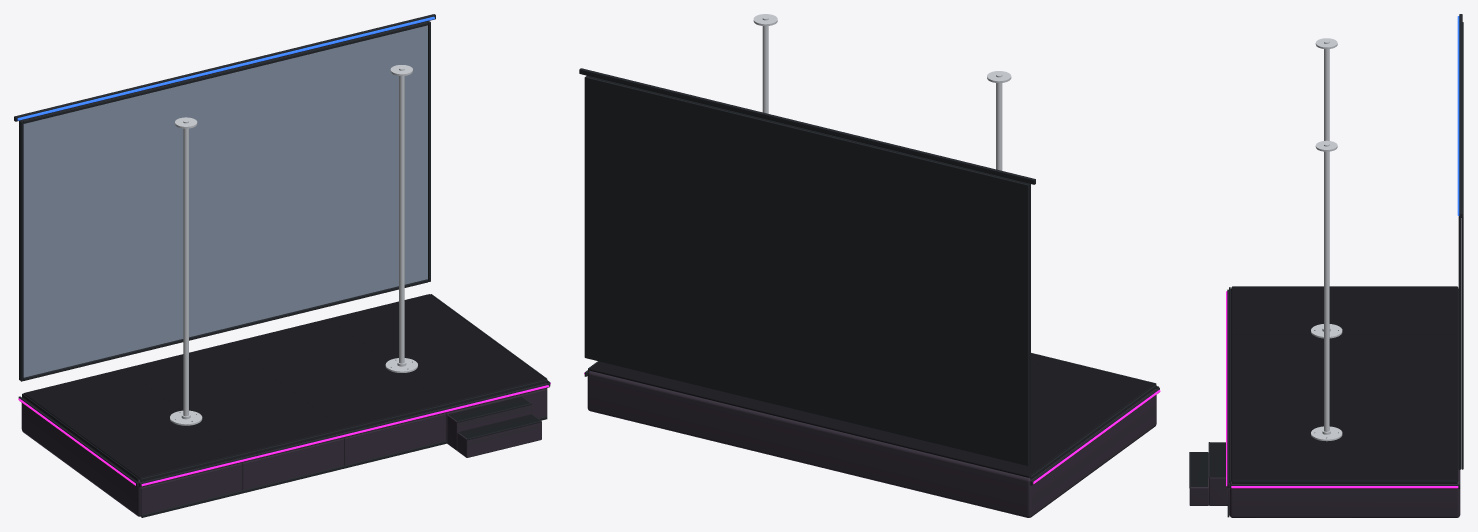
The model's file is palco_realista.glb.
3 views of the same model, side by side, from view 1: azimuth 30°, elevation 25°; view 2: azimuth 150°, elevation 25°; view 3: azimuth 270°, elevation 25° (orthographic). The views are drawn at different scales.
Visible parts, largest first — view 1: Espelho de parede, Piso laminado do palco, Estrutura do palco, Painel frontal 1, Painel frontal 3, Painel frontal 2, Canaleta superior azul, Barra cromada, Barra cromada.001, Perfil horizontal do espelho.001, Perfil frontal do piso, Degrau inferior (+12 smaller); view 2: Costas do espelho, Estrutura do palco, Piso laminado do palco, Canaleta superior azul, Perfil horizontal do espelho.001; view 3: Piso laminado do palco, Estrutura do palco, Barra cromada.001, Costas do espelho, Perfil lateral do piso.001, Canaleta superior azul, Perfil lateral do espelho.001, Canaleta magenta lateral.001, Difusor magenta lateral.001, Piso do degrau, Difusor azul, Piso do degrau.001 (+7 smaller).
Part boxes in pixels (bbox=[...]): Espelho de parede: bbox=[23, 25, 427, 377]; Piso laminado do palco: bbox=[23, 294, 545, 479]; Estrutura do palco: bbox=[21, 383, 547, 516]; Painel frontal 1: bbox=[140, 463, 241, 515]; Painel frontal 3: bbox=[344, 414, 445, 465]; Painel frontal 2: bbox=[242, 439, 343, 490]; Canaleta superior azul: bbox=[14, 14, 435, 121]; Barra cromada: bbox=[183, 119, 188, 416]; Barra cromada.001: bbox=[399, 67, 404, 363]; Perfil horizontal do espelho.001: bbox=[23, 22, 428, 123]; Perfil frontal do piso: bbox=[140, 379, 546, 481]; Degrau inferior: bbox=[457, 414, 541, 457]; Costas do espelho: bbox=[584, 76, 1029, 465]; Estrutura do palco: bbox=[587, 371, 1156, 517]; Piso laminado do palco: bbox=[589, 354, 1154, 477]; Canaleta superior azul: bbox=[579, 68, 1035, 184]; Perfil horizontal do espelho.001: bbox=[589, 76, 1027, 183]; Piso laminado do palco: bbox=[1231, 287, 1458, 481]; Estrutura do palco: bbox=[1229, 290, 1460, 517]; Barra cromada.001: bbox=[1324, 143, 1329, 431]; Costas do espelho: bbox=[1461, 22, 1463, 469]; Perfil lateral do piso.001: bbox=[1232, 480, 1457, 483]; Canaleta superior azul: bbox=[1459, 14, 1462, 217]; Perfil lateral do espelho.001: bbox=[1458, 216, 1460, 469]; Canaleta magenta lateral.001: bbox=[1229, 484, 1460, 488]; Difusor magenta lateral.001: bbox=[1231, 486, 1458, 488]; Piso do degrau: bbox=[1190, 452, 1207, 486]; Difusor azul: bbox=[1457, 16, 1459, 215]; Piso do degrau.001: bbox=[1210, 442, 1225, 477].
Bounding box in the file's own units: 3.9 × 2.99 × 2.26.
